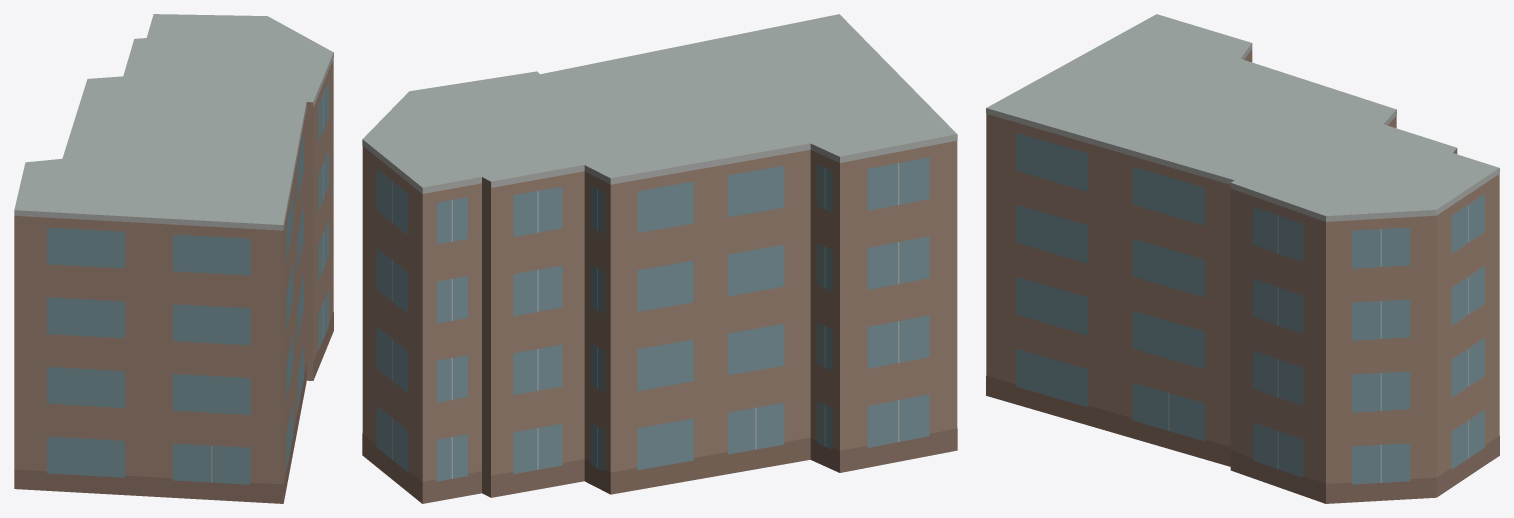
File: survey-upis-32588236.glb
The picture shows the model from 3 angles, left to right: view 1: azimuth 30°, elevation 25°; view 2: azimuth 150°, elevation 25°; view 3: azimuth 270°, elevation 25°; orthographic projection. The views are drawn at different scales.
Parts seen in each view (by area): view 1: survey-upis-32588236.tmp; view 2: survey-upis-32588236.tmp; view 3: survey-upis-32588236.tmp.
Part boxes in pixels (x1,y1,x2,y2): survey-upis-32588236.tmp: (14, 14, 333, 503); survey-upis-32588236.tmp: (362, 14, 957, 503); survey-upis-32588236.tmp: (986, 14, 1499, 503).
Size of the model in its own units: 18.39 by 12.2 by 19.75.
